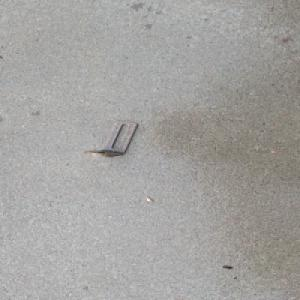MetalPart: (83, 119, 139, 157)
